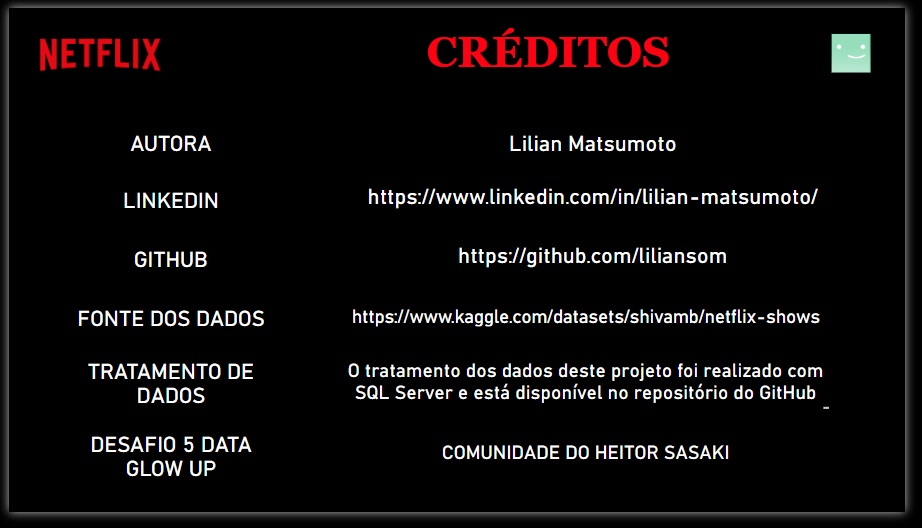

This screenshot's page, from the dashboard's own definition file:
{"tool":"powerbi","page":{"name":"CRÉDITOS","canvas":[1280,720],"ordinal":4},"visuals":[{"type":"shape","box":[0,0,1280,128.3],"z":0},{"type":"image","box":[0,0,260,128.3],"z":1000},{"type":"textbox","title":"CRÉDITOS","box":[260,23.3,1020,105],"z":12000},{"type":"textbox","title":"AUTORA","box":[86.7,309.7,288.3,50],"z":12001},{"type":"textbox","title":"LINKEDIN","box":[86.7,391.3,288.3,50],"z":12002},{"type":"textbox","title":"GITHUB","box":[86.7,476.3,288.3,50],"z":12003},{"type":"textbox","title":"Lilian Matsumoto","box":[481.7,309.7,705,50],"z":12004},{"type":"actionButton","title":"https://github.com/liliansom","box":[481.7,476.3,705,50],"z":12007},{"type":"actionButton","title":"https://www.linkedin.com/in/lilian-matsumoto/","box":[481.7,391.3,705,50],"z":12008}]}

Visuals, with their boxes in screenshot pixels (x1, y1, x2, y2), scaled from the page's 1280x720 canvas onto the 922x528 screenshot:
shape: region(0, 0, 921, 94)
image: region(0, 0, 187, 94)
"CRÉDITOS" textbox: region(187, 17, 921, 94)
"AUTORA" textbox: region(62, 227, 270, 264)
"LINKEDIN" textbox: region(62, 287, 270, 324)
"GITHUB" textbox: region(62, 349, 270, 386)
"Lilian Matsumoto" textbox: region(347, 227, 855, 264)
"https://github.com/liliansom" actionButton: region(347, 349, 855, 386)
"https://www.linkedin.com/in/lilian-matsumoto/" actionButton: region(347, 287, 855, 324)
